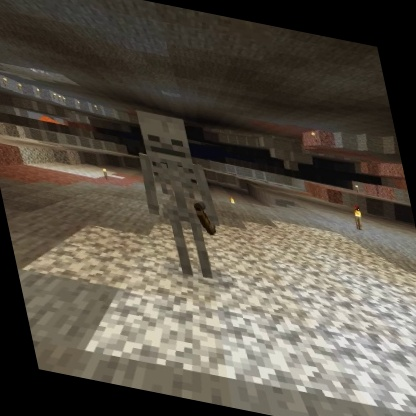skeleton: (123, 103, 236, 288)
